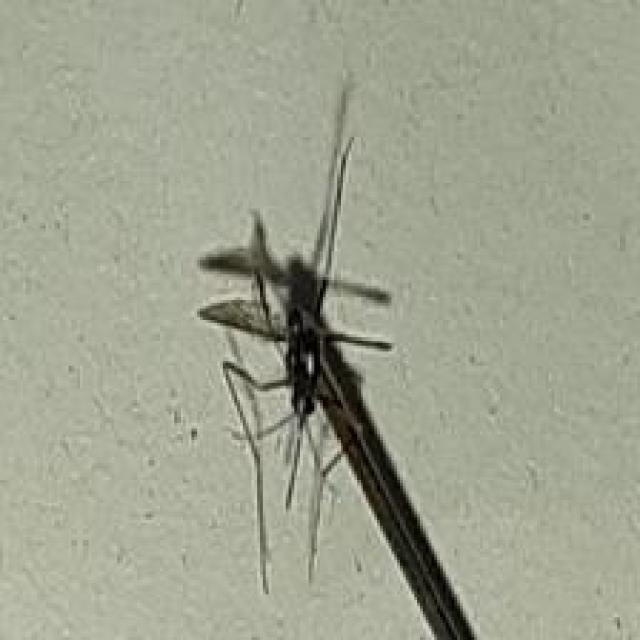Aedes albopictus: (193, 71, 521, 640)
